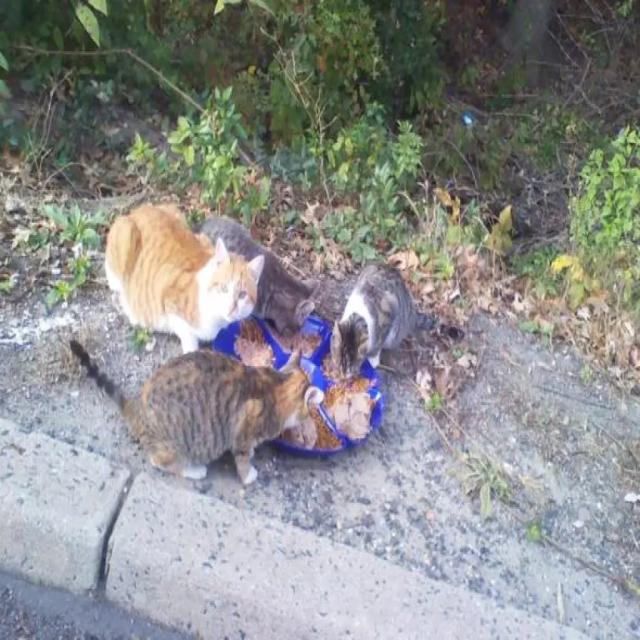cat: (70, 340, 322, 484), (105, 206, 264, 352), (331, 264, 464, 377), (201, 217, 319, 333)
